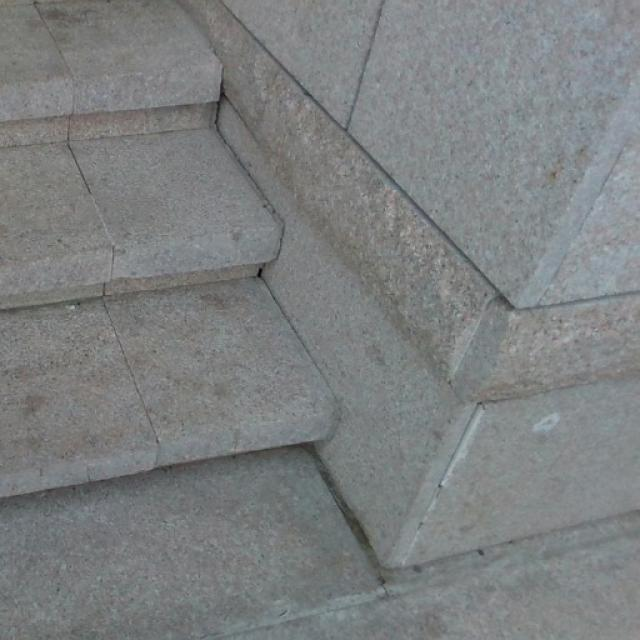Stairs: (0, 0, 385, 638)
